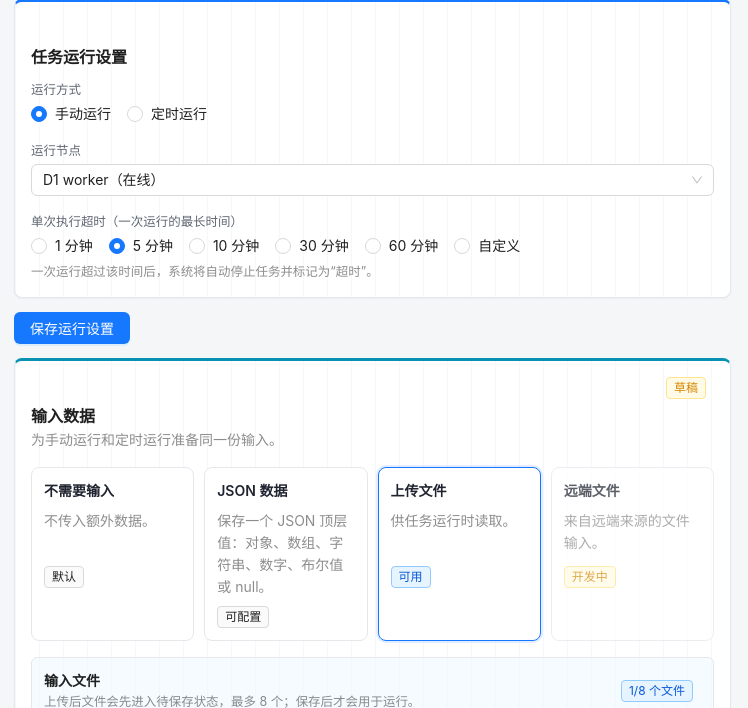
Test: Issue #127 D1 managed input editor › keeps a dirty managed-files draft after 409 and deletes STAGED without changing revision
(page scrolled)
What coordinates should you click on to do the following:
click the radio button with test id "task-input-source-managed_files"
I would click on:
 (459, 554)
Its box is [378,467,541,641].
(page scrolled)
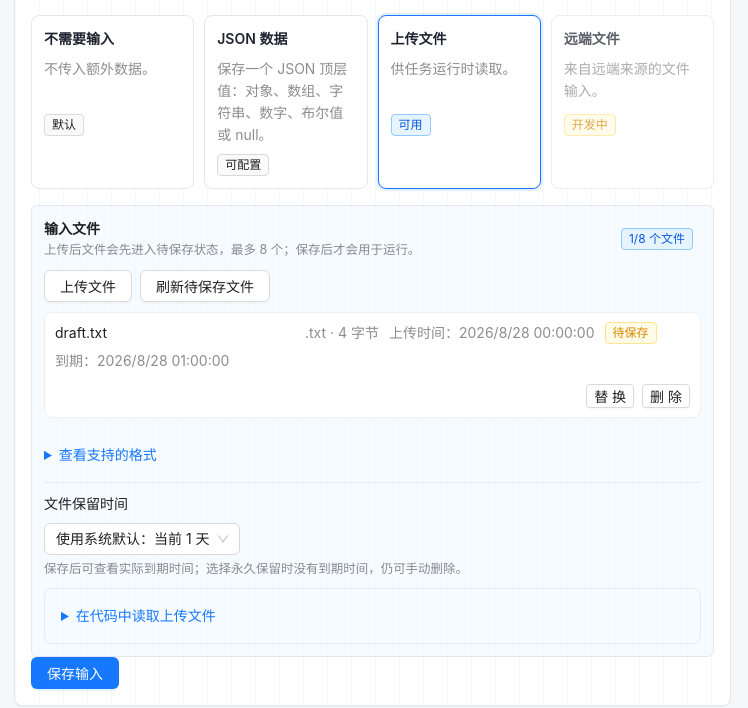
What coordinates should you click on to do the following:
click the button with test id "save-task-input"
I would click on:
 (75, 673)
Its box is [31,657,119,689].
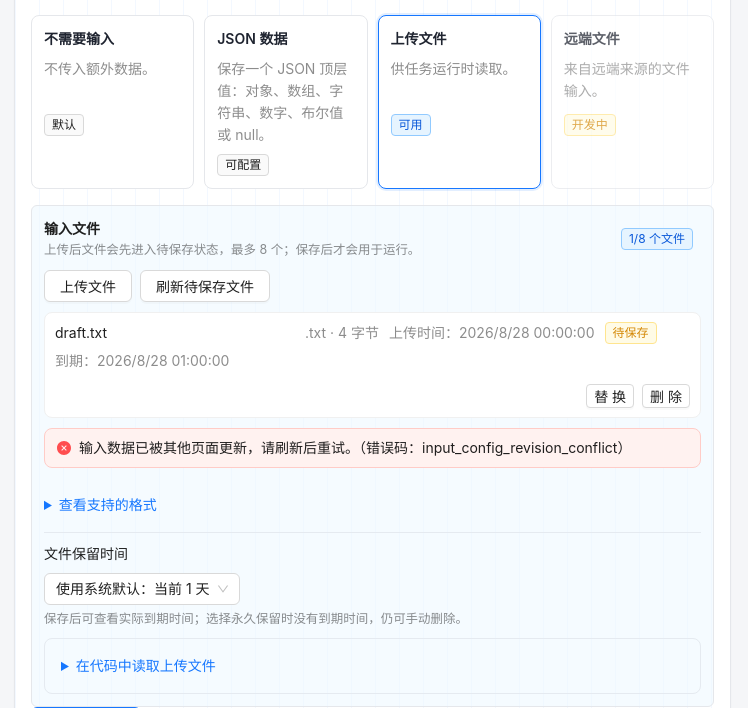
Expected: the text with test id "managed-input-status-92" reads "待保存", [612,325,648,340]
What coordinates should you click on to do the following:
click the button with test id "delete-managed-file-92"
I would click on:
 (666, 396)
Its box is [642,384,690,408].
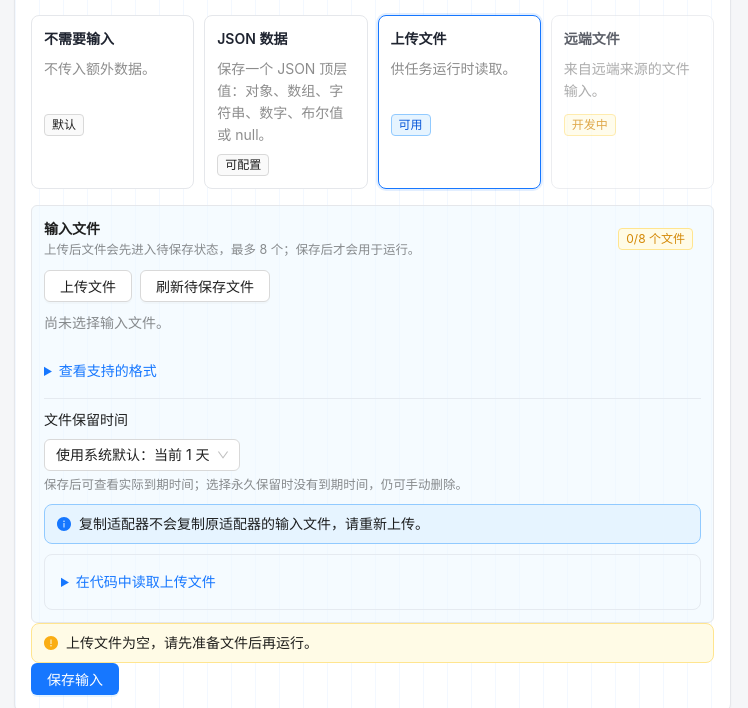
Expected: the text with test id "managed-input-status-92" is gone
